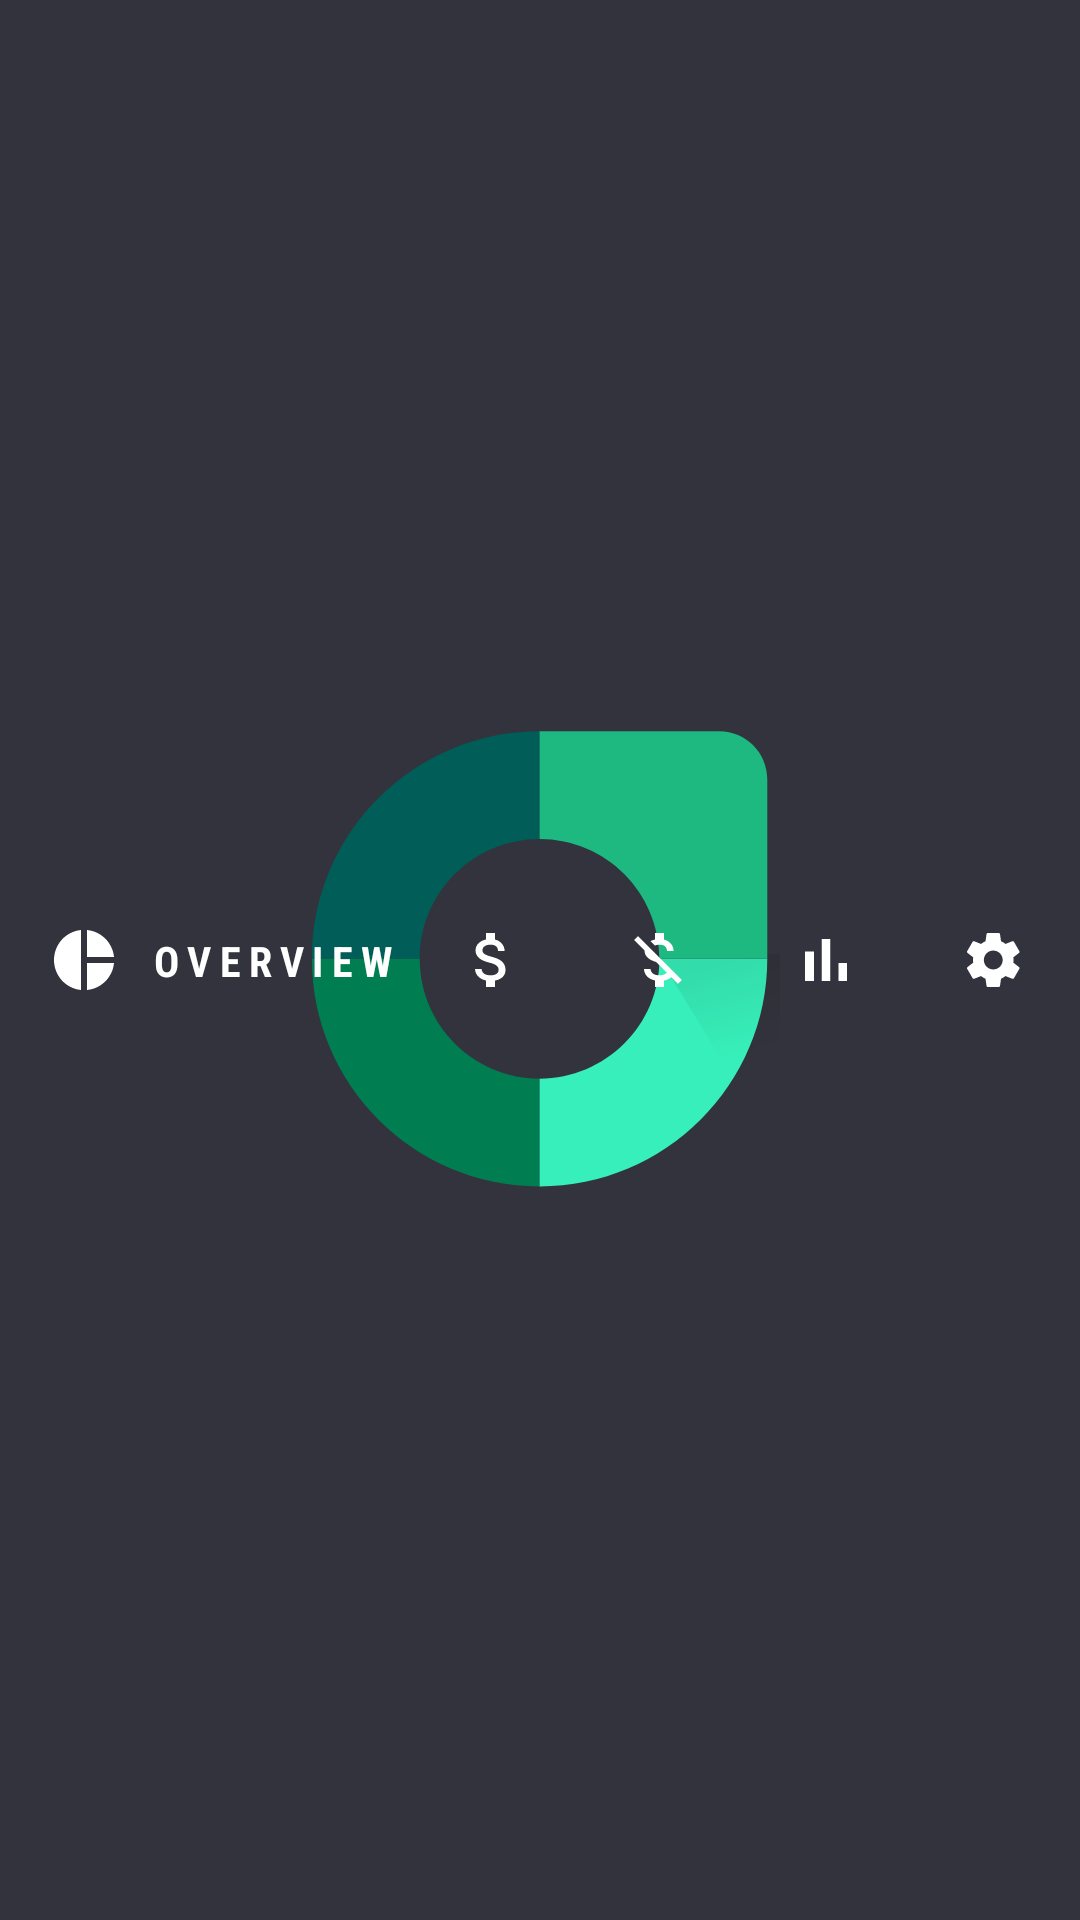

Screen size 1080px×1920px. Icon name, then its center in pixels as (x,y):
attach money: (490,960)
bar chart: (826,960)
money off: (658,960)
pie chart: (84,960)
settings: (993,960)
